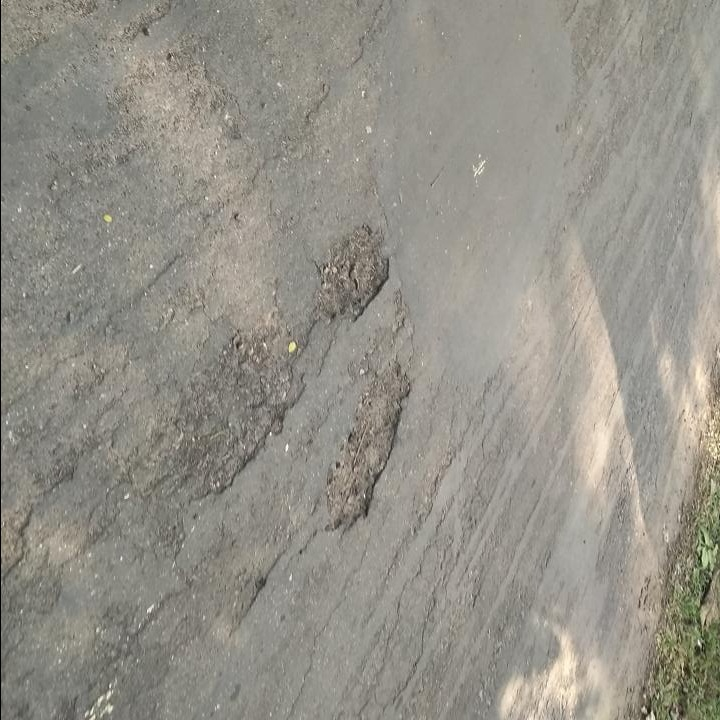pothole: (170, 320, 306, 504), (322, 355, 415, 536), (310, 220, 393, 326)
